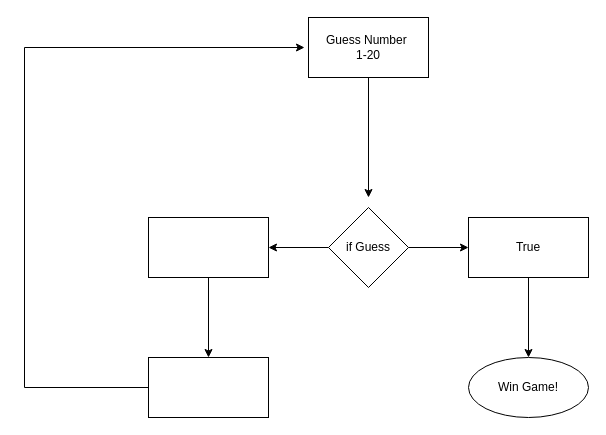
Image size: 606x435. Some labels were removed from this diagram. The shapes that lost their labels are listed below. From the top down, each one's centre as x and y in pixels, then its label:
(208,247): False
(208,387): -1 point
